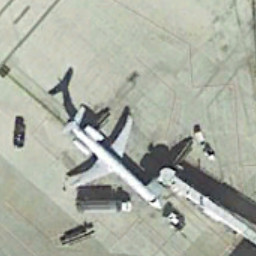Airplane: (44, 95, 172, 220)
